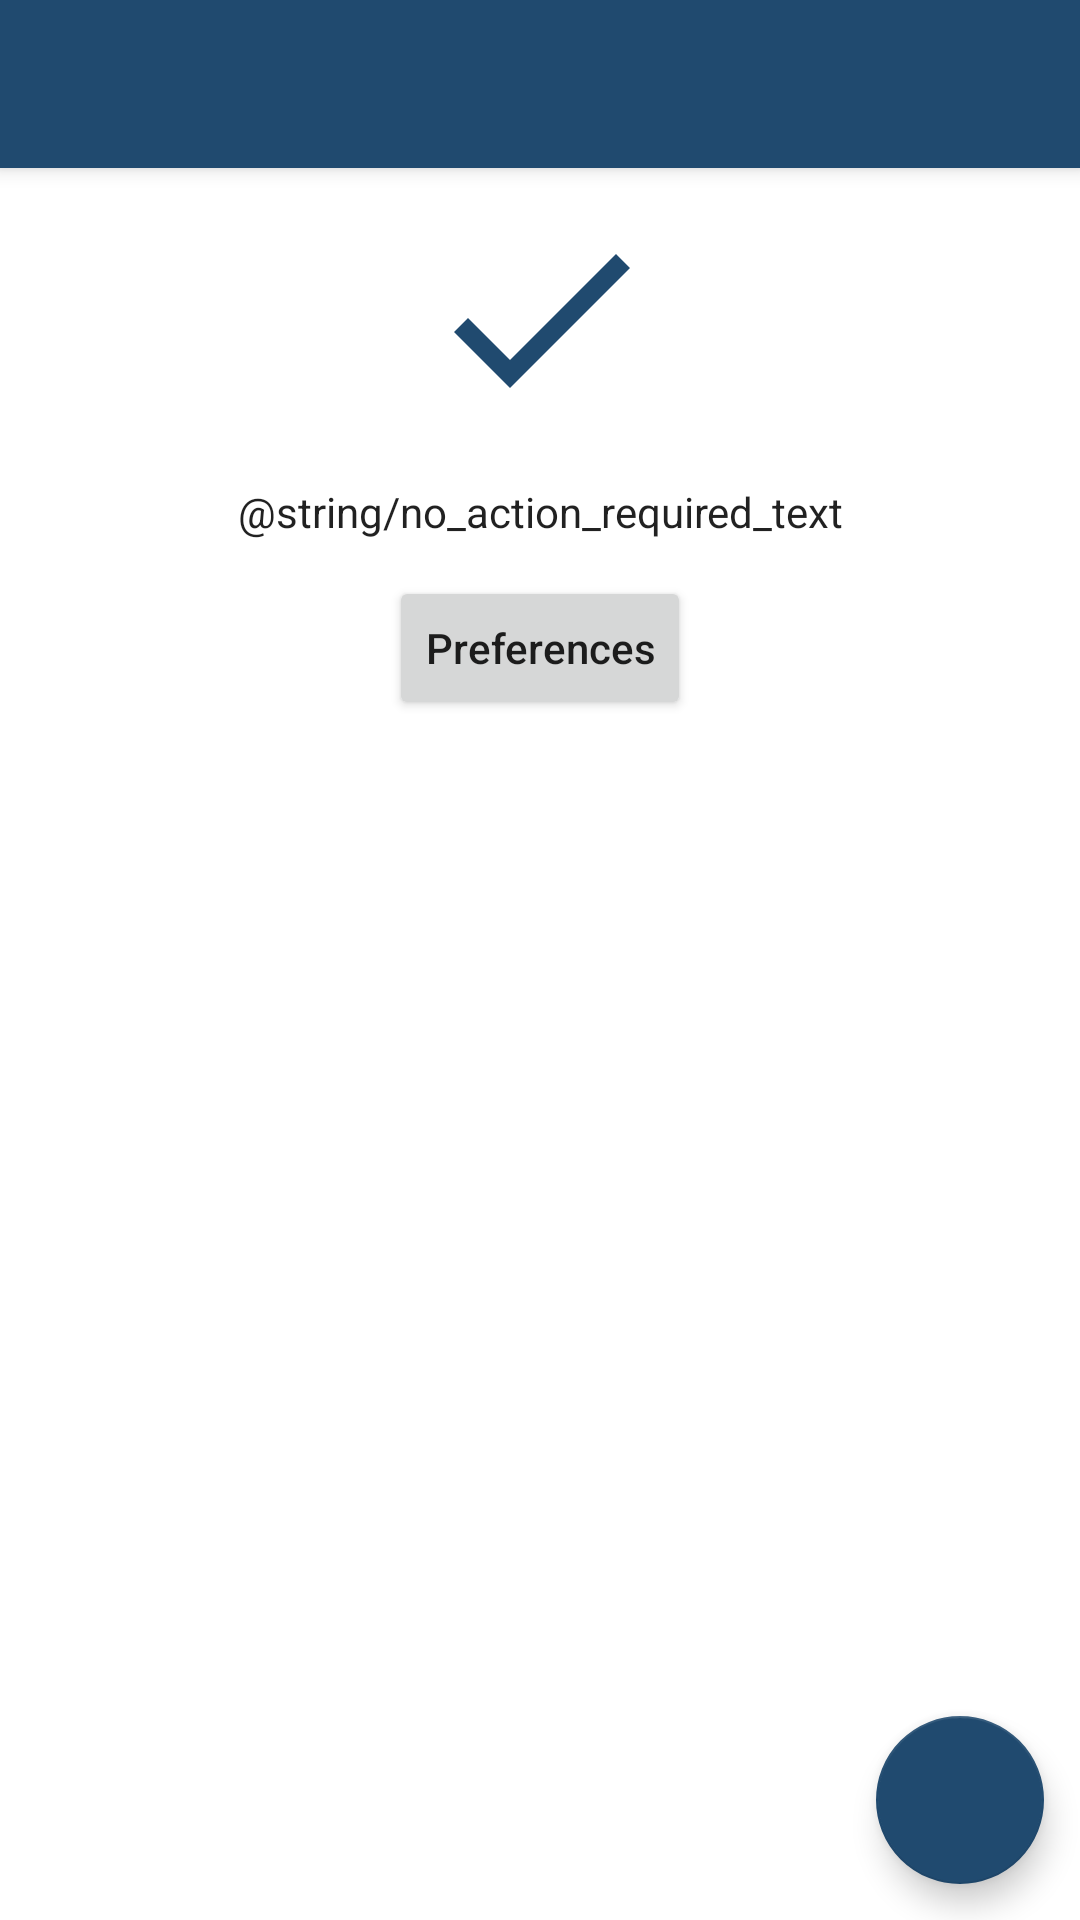

Point at icon controls on the screen. Image size 1080px x 1920px, points as (x=x, y=y).
done: (x=542, y=321)
